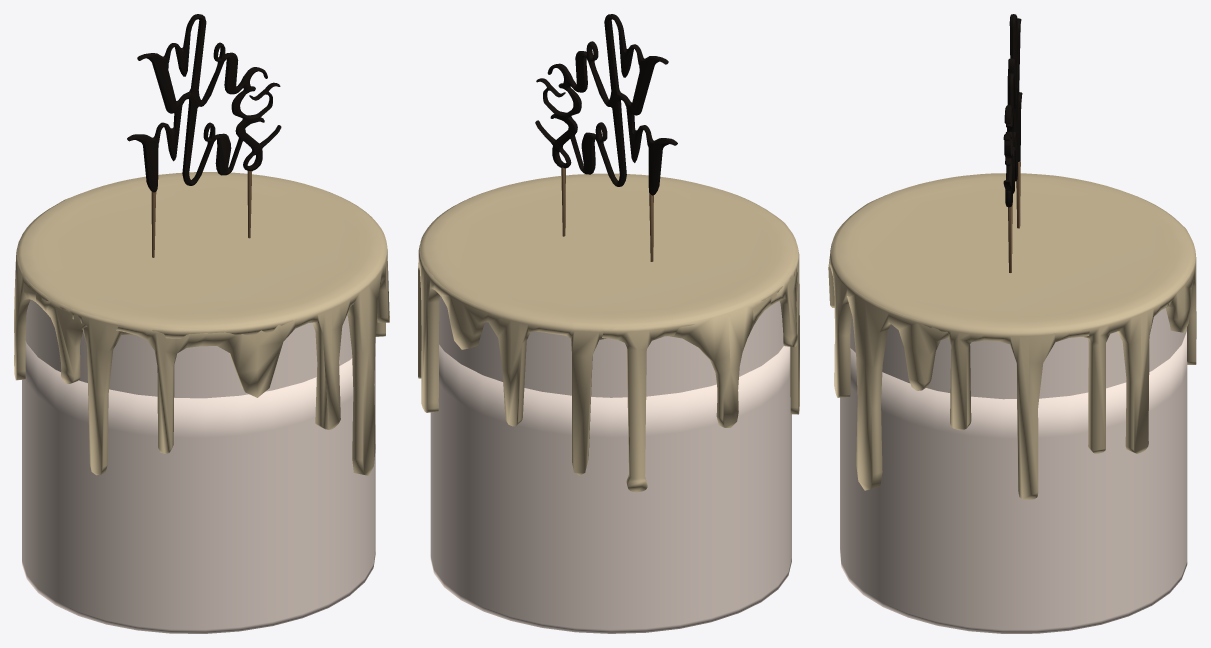
Rendered from 1-tier-white-ganache-mrms.glb.
3 renders of one model, left to right at view 1: azimuth 30°, elevation 25°; view 2: azimuth 150°, elevation 25°; view 3: azimuth 270°, elevation 25°, orthographic.
Parts seen in each view (by area): view 1: Cylinder.019, tHE ICING, mrms.001; view 2: Cylinder.019, tHE ICING, mrms.001; view 3: Cylinder.019, tHE ICING, mrms.001.
Part boxes in pixels (x1,y1,x2,y2): Cylinder.019: [22, 300, 375, 633]; tHE ICING: [14, 172, 389, 475]; mrms.001: [127, 14, 281, 257]; Cylinder.019: [430, 295, 791, 633]; tHE ICING: [418, 173, 799, 492]; mrms.001: [535, 14, 677, 261]; Cylinder.019: [840, 308, 1187, 633]; tHE ICING: [828, 173, 1196, 499]; mrms.001: [1003, 14, 1022, 272].
Bounding box in the file's own units: 2.8 × 4.41 × 2.71.
